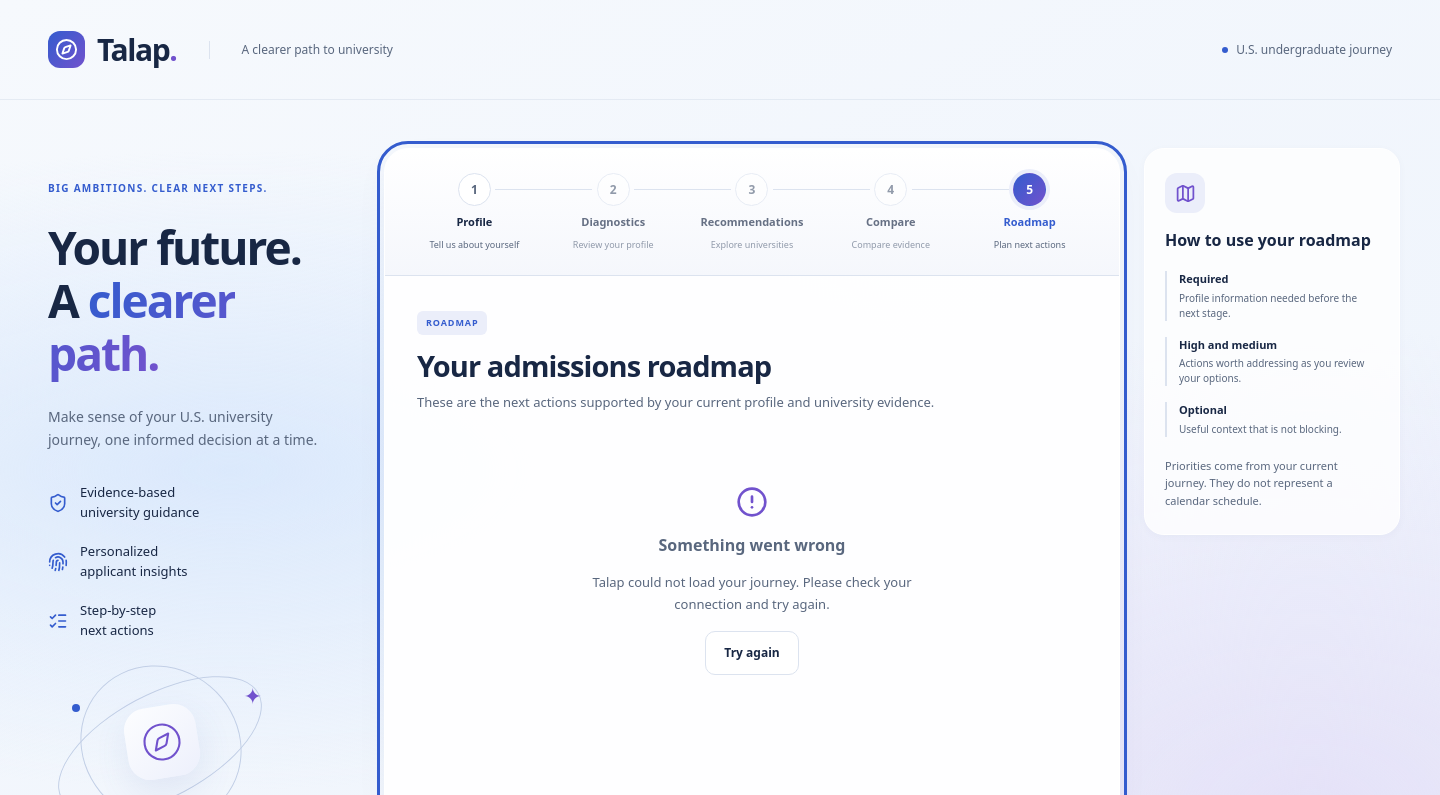
Scenario: complete desktop journey integration › uses safe retry feedback on every journey route without exposing server HTML
The width and height of the screenshot is (1440, 795).
Expected: the message shows "could not load your journey", [592,573,912,612]
Expected: the text "Completed" is not shown
Click the button "Try again".
click(752, 653)  # box [705,631,799,675]
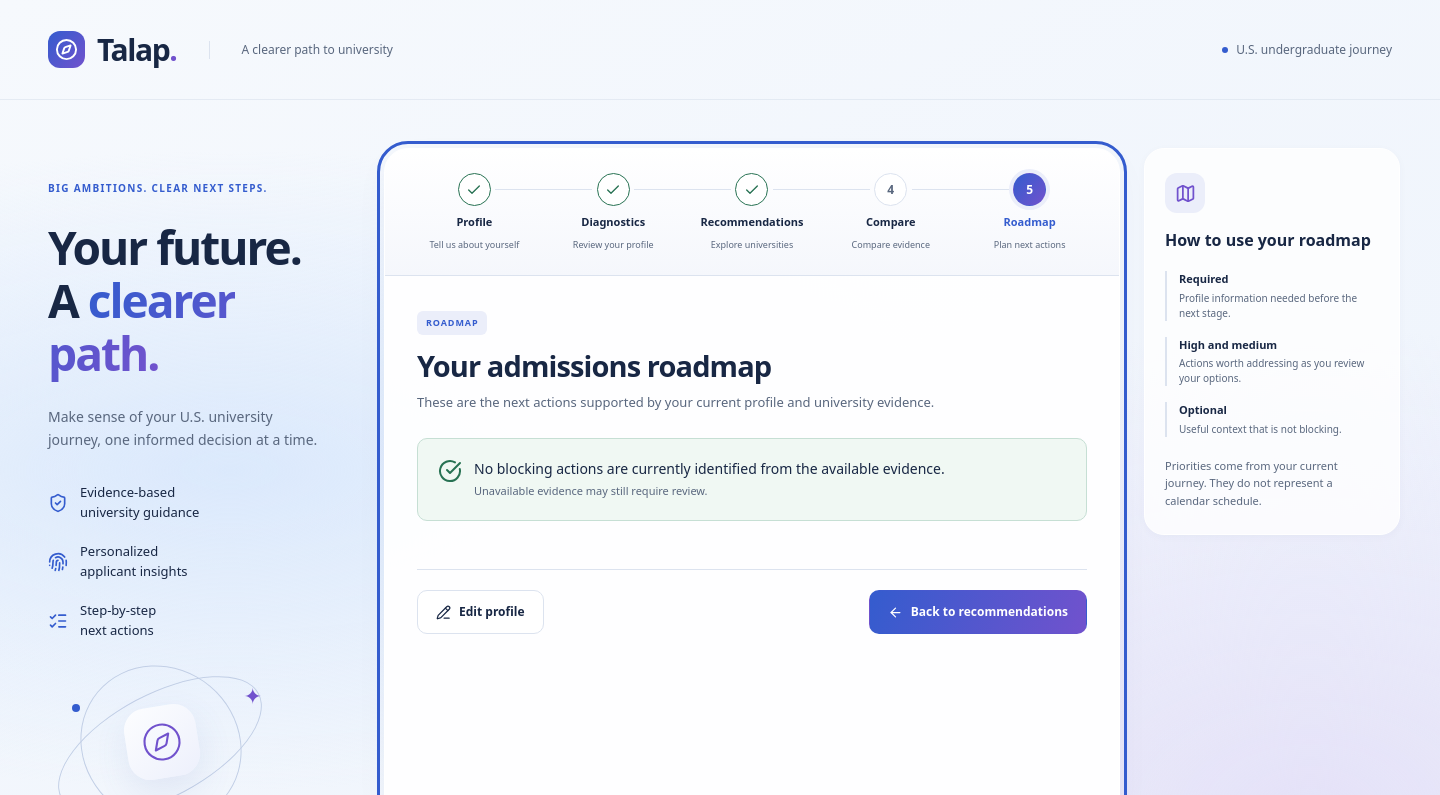
Expected: the heading "No blocking actions are currently identified from the available evidence." is shown, [474,459,945,479]
